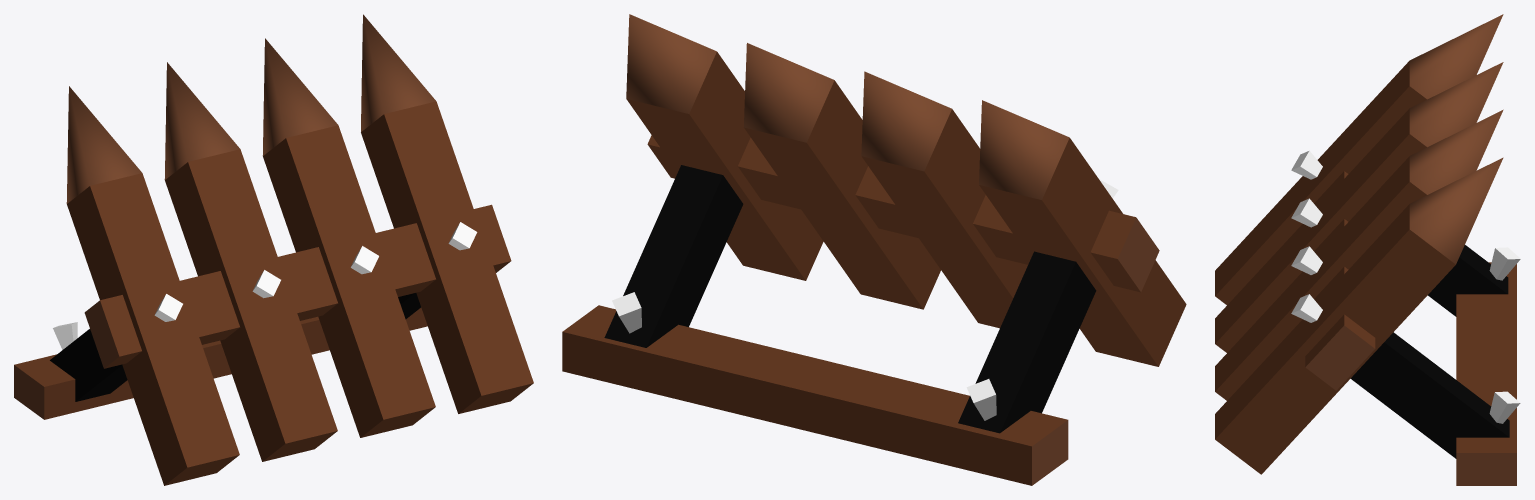
The model's file is barykada.FBX.
The picture shows the model from 3 angles, left to right: view 1: azimuth 30°, elevation 25°; view 2: azimuth 150°, elevation 25°; view 3: azimuth 270°, elevation 25°; orthographic projection. The views are drawn at different scales.
Visible parts, largest first — view 1: Box063, Box060, Box061, Box062, Box072, Box066; view 2: Box072, Box066, Box063, Box061, Box060, Box062; view 3: Box060, Box066, Box062, Box061, Box063, Box072.
Boxes of the visible parts, <box> form: Box063: <box>66,86,239,485</box>; Box060: <box>361,14,533,413</box>; Box061: <box>262,38,435,437</box>; Box062: <box>164,62,337,461</box>; Box072: <box>14,322,231,419</box>; Box066: <box>300,293,427,354</box>; Box072: <box>797,251,1096,485</box>; Box066: <box>562,165,832,428</box>; Box063: <box>979,100,1186,366</box>; Box061: <box>743,43,940,309</box>; Box060: <box>626,14,823,280</box>; Box062: <box>861,71,1027,328</box>; Box060: <box>1215,157,1503,474</box>; Box066: <box>1350,332,1520,485</box>; Box062: <box>1215,62,1503,352</box>; Box061: <box>1215,109,1503,400</box>; Box063: <box>1215,14,1503,304</box>; Box072: <box>1428,245,1520,357</box>.
Bounding box in the file's own units: 112 × 83.29 × 75.79.
